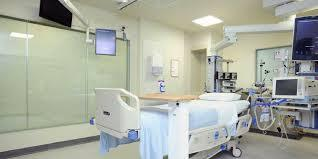Monitor: (269, 75, 306, 100)
bed: (88, 83, 254, 158)
